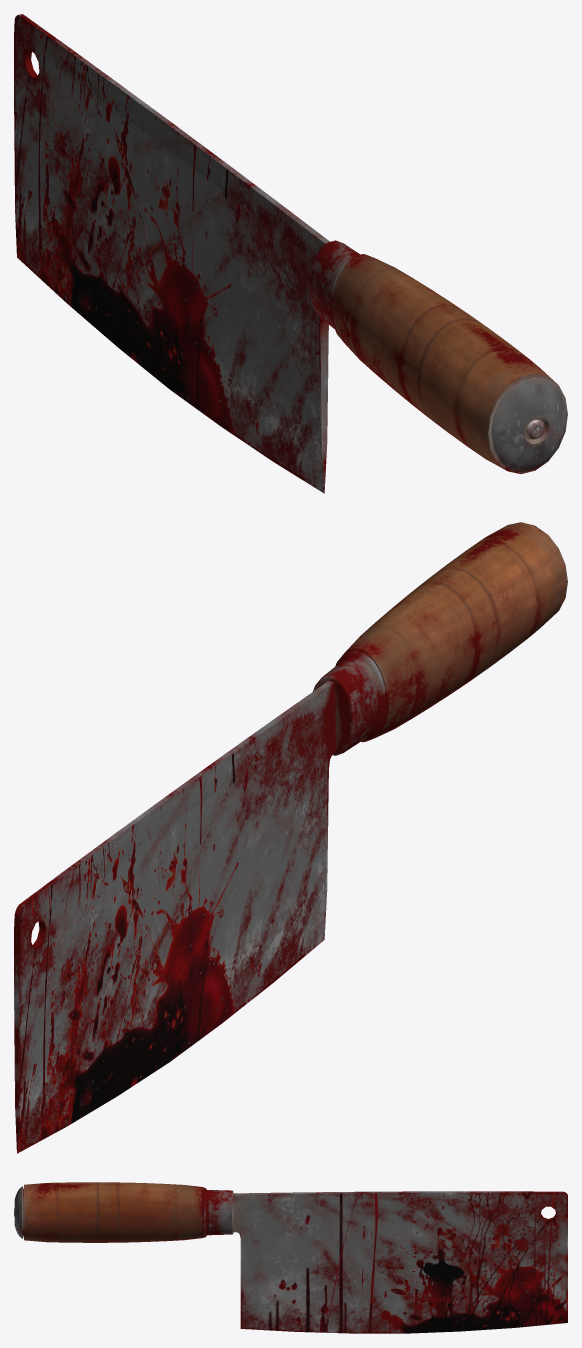
Rendered from a_bloody_kitchen_knife.obj.
3 renders of one model, top to bottom at view 1: azimuth 30°, elevation 25°; view 2: azimuth 150°, elevation 25°; view 3: azimuth 270°, elevation 25°, orthographic. The views are drawn at different scales.
Visible parts, largest first — view 1: obj1; view 2: obj1; view 3: obj1.
Boxes of the visible parts, x1,y1,x2,y2 form: obj1: [14, 14, 567, 493]; obj1: [14, 522, 567, 1153]; obj1: [14, 1182, 567, 1333].
Bounding box in the file's own units: 18.17 × 58.21 × 195.
Materials: 1 (1 with a texture image).
